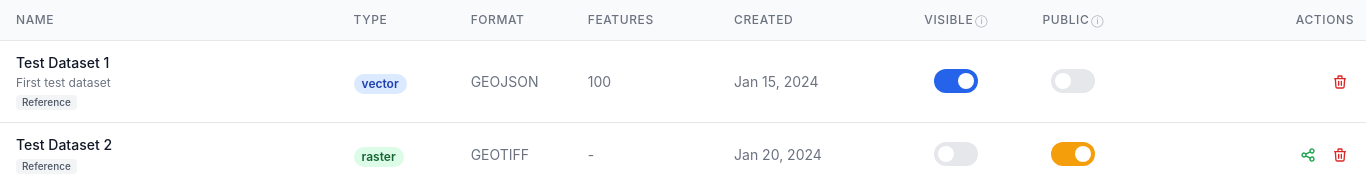
Test: DatasetTable › should require confirmation before delete
The image size is (1366, 191).
Note: First click should show confirmation buttons
Click the button titled "Delete dataset" in the row of "Test Dataset 1" at (1340, 82), box x1=1326 y1=68 x2=1354 y2=96
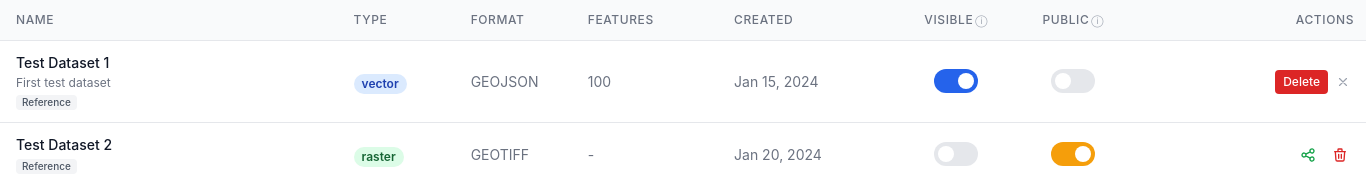
Now the button titled "Confirm deletion" is shown, box x1=1275 y1=70 x2=1328 y2=94
